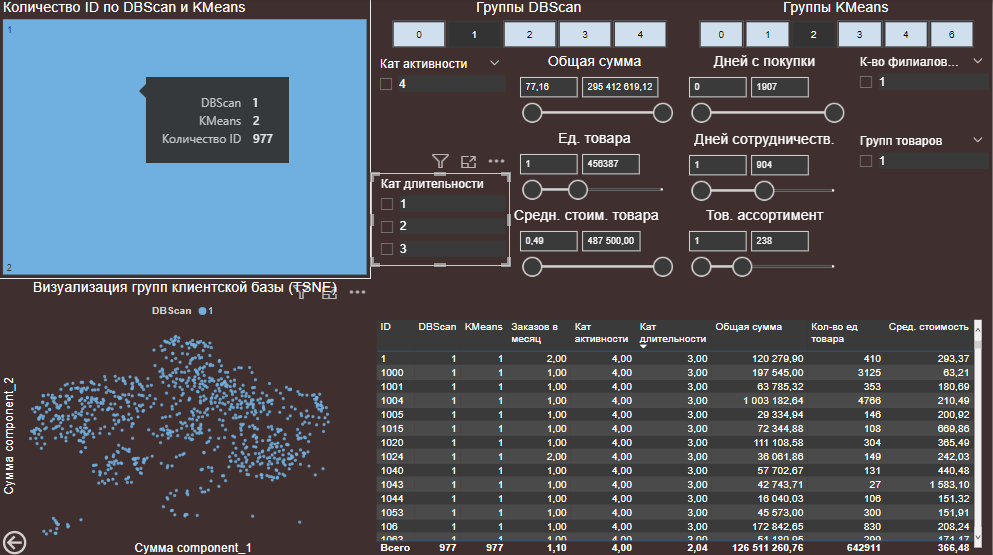

Layout of this report page (visuals, bound fields, positions):
{"tool":"powerbi","page":{"name":"Панель выгрузки","canvas":[1280,720],"ordinal":0},"visuals":[{"type":"actionButton","box":[0,679.8,100.6,40.2],"z":0},{"type":"scatterChart","title":"Визуализация групп клиентской базы (TSNE)","fields":{"Category":["2d_mapping.ID"],"X":["Sum(2d_mapping.component_1)"],"Y":["Sum(2d_mapping.component_2)"],"Series":["Clustering_results.DBScan"]},"box":[0,360,478.3,360],"z":1000},{"type":"treemap","fields":{"Values":["CountNonNull(Clustering_results.ID)"],"Group":["Clustering_results.DBScan"],"Details":["Clustering_results.KMeans"]},"box":[0,0,478.6,360],"z":2000},{"type":"slicer","title":"Группы DBScan","fields":{"Values":["Clustering_results.DBScan"]},"box":[480,0,404.3,70],"z":3000},{"type":"slicer","title":"Группы KMeans","fields":{"Values":["Clustering_results.KMeans"]},"box":[875.7,0,404.3,70],"z":4000},{"type":"slicer","fields":{"Values":["Сводная клиентов.Категория активности клиента"]},"box":[478.1,69.3,179.6,154.2],"z":5000},{"type":"slicer","fields":{"Values":["Сводная клиентов.Категория по длительности сотрудничества,"]},"box":[479.5,223.5,178.2,120.2],"z":6000},{"type":"tableEx","fields":{"Values":["Clustering_results.ID","CountNonNull(Clustering_results.DBScan)","CountNonNull(Clustering_results.KMeans)","Avg(Clustering_results.Дней взаимодействия в месяц)","Avg(Сводная клиентов.Категория активности клиента)","Avg(Сводная клиентов.Категория по длительности сотрудничества,)","Сводная клиентов.Общая сумма покупок","Sum(Сводная клиентов.Общее к-во покупок за все время, шт)","Avg(Сводная клиентов.Средняя стоимость товара, р)"]},"box":[480,408.1,790.4,311.9],"z":7000},{"type":"slicer","title":"Общая сумма","fields":{"Values":["Сводная клиентов.Сумма покупок за все время, руб"]},"box":[657.8,69.3,217.8,99],"z":8000},{"type":"slicer","title":"Ед. товара","fields":{"Values":["Сводная клиентов.Общее к-во покупок за все время, шт"]},"box":[657.8,168.3,217.8,99],"z":9000},{"type":"slicer","title":"Дней с покупки","fields":{"Values":["Сводная клиентов.К-во дней с последней покупки"]},"box":[875.6,69.3,220.7,100.4],"z":10000},{"type":"slicer","title":"Средн. стоим. товара","fields":{"Values":["Сводная клиентов.Средняя стоимость товара, р"]},"box":[657.8,267.3,217.8,99],"z":11000},{"type":"slicer","title":"Дней сотрудничеств.","fields":{"Values":["Сводная клиентов.К-во дней сотрудничества"]},"box":[875.6,169.7,220.7,99],"z":12000},{"type":"slicer","fields":{"Values":["Clustering_results.К-во филиалов, шт"]},"box":[1096.3,66.5,183.9,101.8],"z":13000},{"type":"slicer","title":"Тов. ассортимент","fields":{"Values":["Сводная клиентов.Товарный ассортимент, шт"]},"box":[875.6,267.3,220.7,99],"z":14000},{"type":"slicer","fields":{"Values":["Clustering_results.К-во групп покупаемых товаров, шт"]},"box":[1096.3,168.3,183.9,148.5],"z":15000}]}

Visuals, with their boxes in screenshot pixels (x1, y1, x2, y2), scaled from the page's 1280x720 canvas onto the 993x555 screenshot:
actionButton: (x1=0, y1=524, x2=78, y2=554)
"Визуализация групп клиентской базы (TSNE)" scatterChart: (x1=0, y1=278, x2=371, y2=554)
treemap - CountNonNull(Clustering_results.ID) x Clustering_results.DBScan: (x1=0, y1=0, x2=371, y2=278)
"Группы DBScan" slicer: (x1=372, y1=0, x2=686, y2=54)
"Группы KMeans" slicer: (x1=679, y1=0, x2=992, y2=54)
slicer - Сводная клиентов.Категория активности клиента: (x1=371, y1=53, x2=510, y2=172)
slicer - Сводная клиентов.Категория по длительности сотрудничества,: (x1=372, y1=172, x2=510, y2=265)
tableEx - Clustering_results.ID x CountNonNull(Clustering_results.DBScan): (x1=372, y1=315, x2=986, y2=554)
"Общая сумма" slicer: (x1=510, y1=53, x2=679, y2=130)
"Ед. товара" slicer: (x1=510, y1=130, x2=679, y2=206)
"Дней с покупки" slicer: (x1=679, y1=53, x2=850, y2=131)
"Средн. стоим. товара" slicer: (x1=510, y1=206, x2=679, y2=282)
"Дней сотрудничеств." slicer: (x1=679, y1=131, x2=850, y2=207)
slicer - Clustering_results.К-во филиалов, шт: (x1=850, y1=51, x2=992, y2=130)
"Тов. ассортимент" slicer: (x1=679, y1=206, x2=850, y2=282)
slicer - Clustering_results.К-во групп покупаемых товаров, шт: (x1=850, y1=130, x2=992, y2=244)
